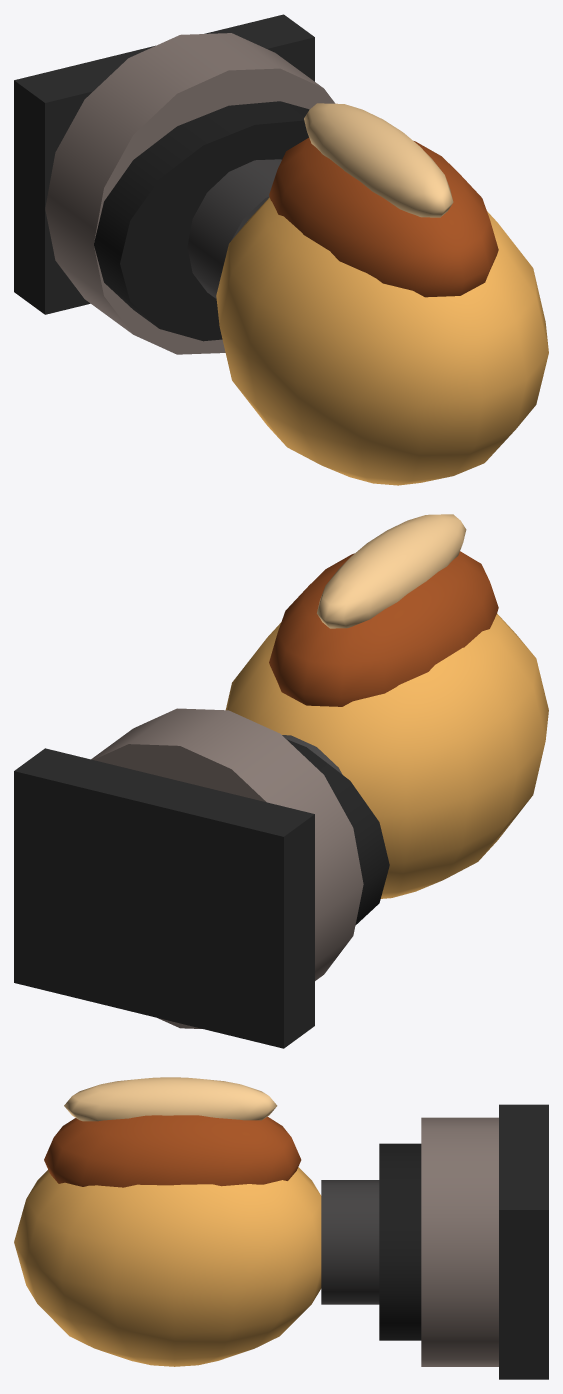
File: CMU3DSmallWallLight.glb
The picture shows the model from 3 angles, top to bottom: view 1: azimuth 30°, elevation 25°; view 2: azimuth 150°, elevation 25°; view 3: azimuth 270°, elevation 25°; orthographic projection. The views are drawn at different scales.
Parts seen in each view (by area): view 1: Bulb glass body, Socket metal collar, Socket black insulator, Glass midtone, Socket wall foot, Glass highlight, Bulb neck; view 2: Socket wall foot, Bulb glass body, Socket metal collar, Glass midtone, Glass highlight, Socket black insulator; view 3: Bulb glass body, Socket metal collar, Glass midtone, Socket wall foot, Socket black insulator, Bulb neck, Glass highlight.
Boxes of the visible parts, x1=… form: Bulb glass body: x1=216, y1=197, x2=548, y2=485; Socket metal collar: x1=45, y1=33, x2=335, y2=354; Socket black insulator: x1=94, y1=101, x2=309, y2=341; Glass midtone: x1=269, y1=137, x2=498, y2=297; Socket wall foot: x1=14, y1=14, x2=314, y2=314; Glass highlight: x1=304, y1=103, x2=453, y2=217; Bulb neck: x1=187, y1=159, x2=281, y2=298; Socket wall foot: x1=14, y1=748, x2=314, y2=1048; Bulb glass body: x1=225, y1=613, x2=548, y2=898; Socket metal collar: x1=91, y1=708, x2=363, y2=1028; Glass midtone: x1=269, y1=551, x2=498, y2=706; Glass highlight: x1=317, y1=514, x2=466, y2=628; Socket black insulator: x1=286, y1=739, x2=389, y2=925; Bulb glass body: x1=14, y1=1167, x2=321, y2=1366; Socket metal collar: x1=421, y1=1117, x2=498, y2=1366; Glass midtone: x1=44, y1=1115, x2=301, y2=1187; Socket wall foot: x1=499, y1=1104, x2=548, y2=1379; Socket black insulator: x1=379, y1=1143, x2=421, y2=1340; Bulb neck: x1=321, y1=1180, x2=379, y2=1304; Glass highlight: x1=64, y1=1077, x2=277, y2=1121.
Bounding box in the file's own units: 0.125 × 0.1505 × 0.268.
